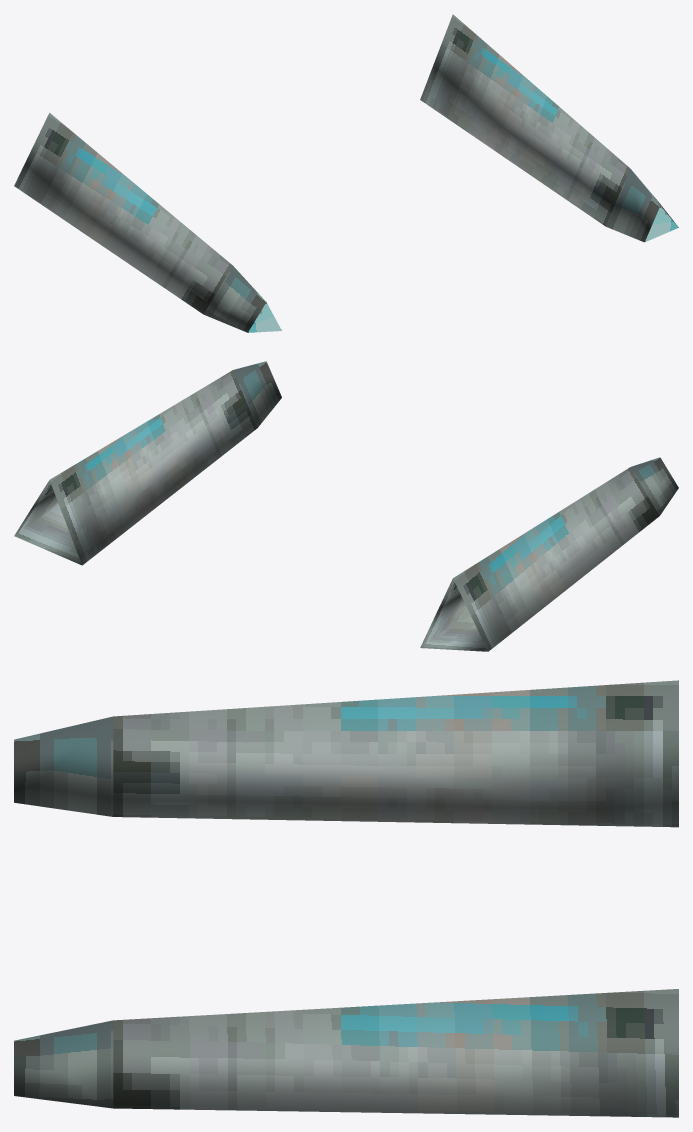
Rendered from hutt_fighter_heavy_weapon1_s02_l3.fbx.
3 views of the same model, one above another, from view 1: azimuth 30°, elevation 25°; view 2: azimuth 150°, elevation 25°; view 3: azimuth 270°, elevation 25° (orthographic). The views are drawn at different scales.
Visible parts, largest first — view 1: mesh_node; view 2: mesh_node; view 3: mesh_node.
Part boxes in pixels (x1=…): mesh_node: x1=14, y1=14, x2=678, y2=332; mesh_node: x1=14, y1=361, x2=678, y2=651; mesh_node: x1=14, y1=680, x2=678, y2=1117.
Size of the model in its own units: 2.85 by 0.4464 by 2.21.
1 material, 1 textured.
